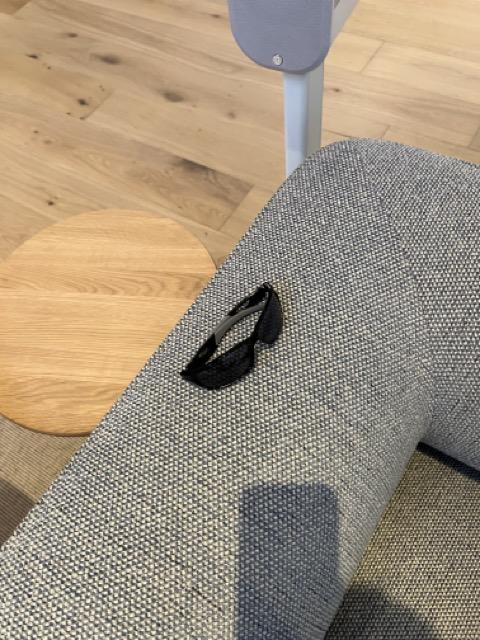Sunglasses: (178, 281, 286, 393)
